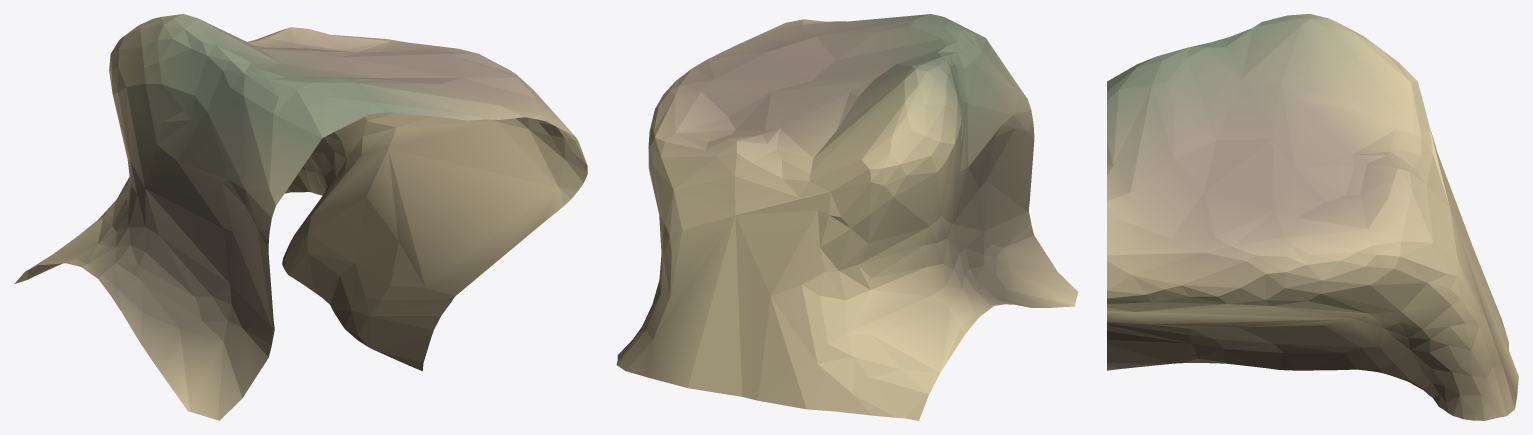
File: bisect-7-4-7.gltf
3 renders of one model, left to right at view 1: azimuth 30°, elevation 25°; view 2: azimuth 150°, elevation 25°; view 3: azimuth 270°, elevation 25°, orthographic. The views are drawn at different scales.
Visible parts, largest first — view 1: bisect-7-4-7; view 2: bisect-7-4-7; view 3: bisect-7-4-7.
Part boxes in pixels (x1,y1,x2,y2): bisect-7-4-7: (14,14,587,420); bisect-7-4-7: (616,14,1078,420); bisect-7-4-7: (1107,14,1518,420).
Bounding box in the file's own units: 19.88 × 15.01 × 19.19.
